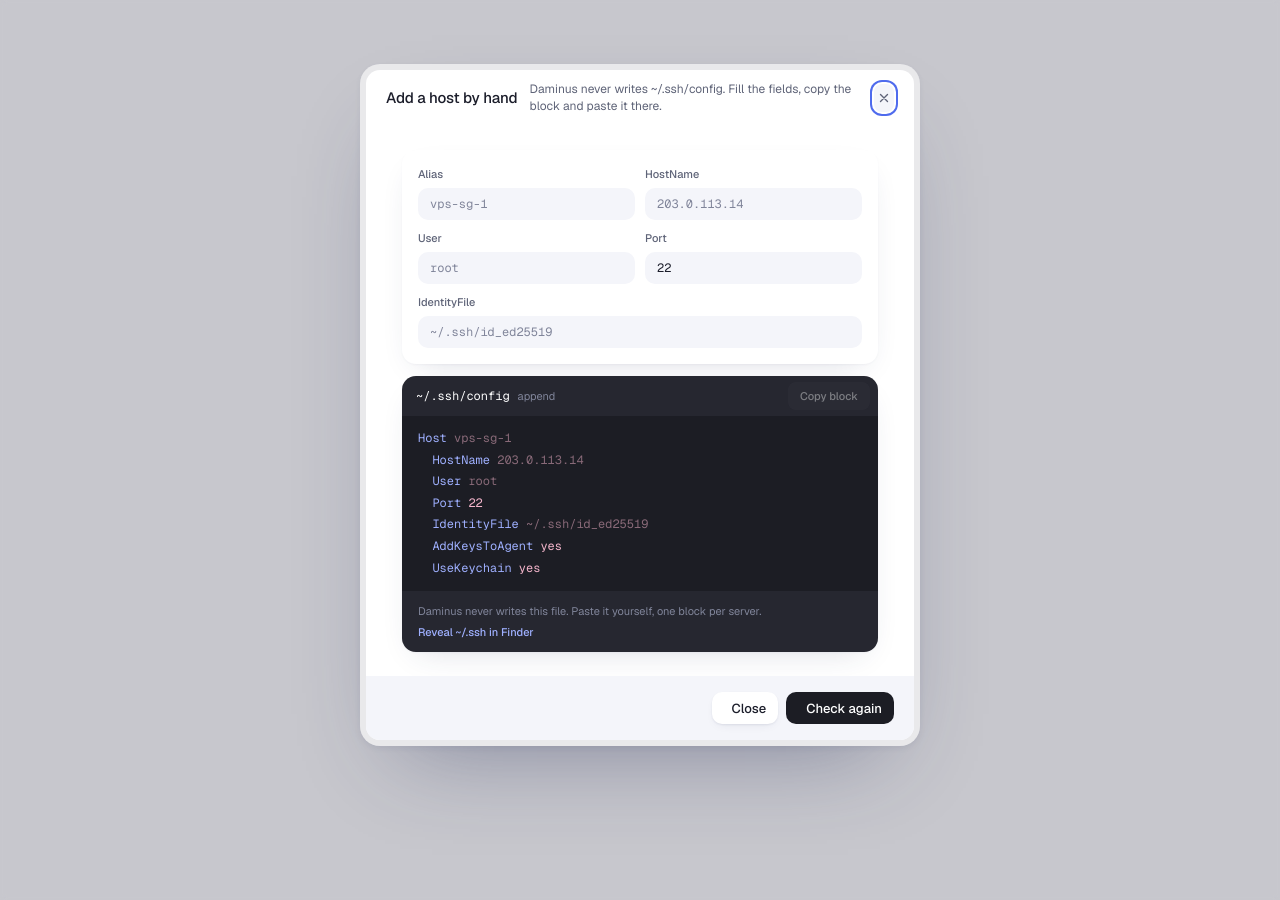
AddHostSheet › follows the config when it is read again from elsewhere, and drops a stale answer
The width and height of the screenshot is (1280, 900).
Type "apollo-2" into the field labelled "Alias" at (526, 204), box [430,188,623,220]
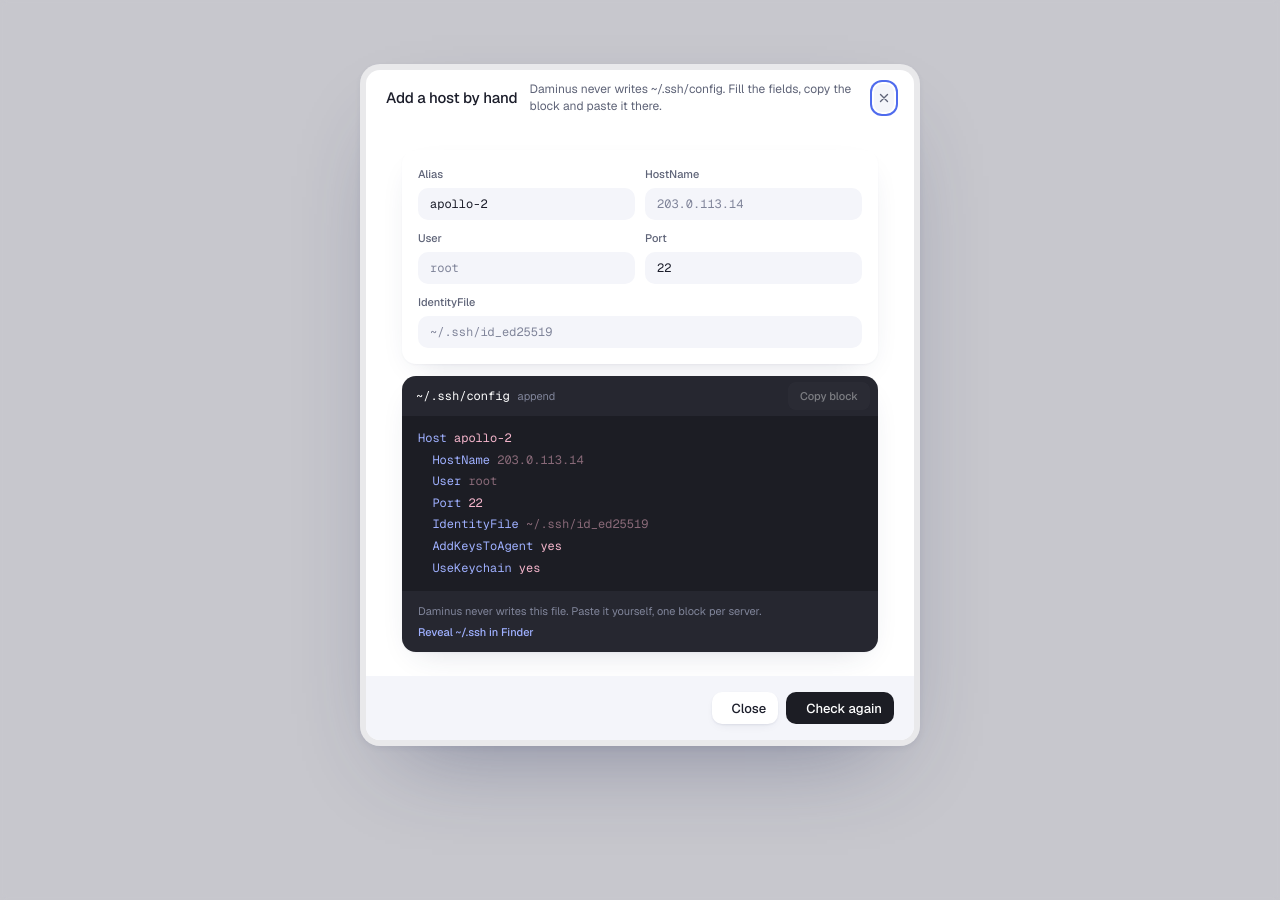
Click the button "Check again" at (840, 708), box [786,692,894,724]
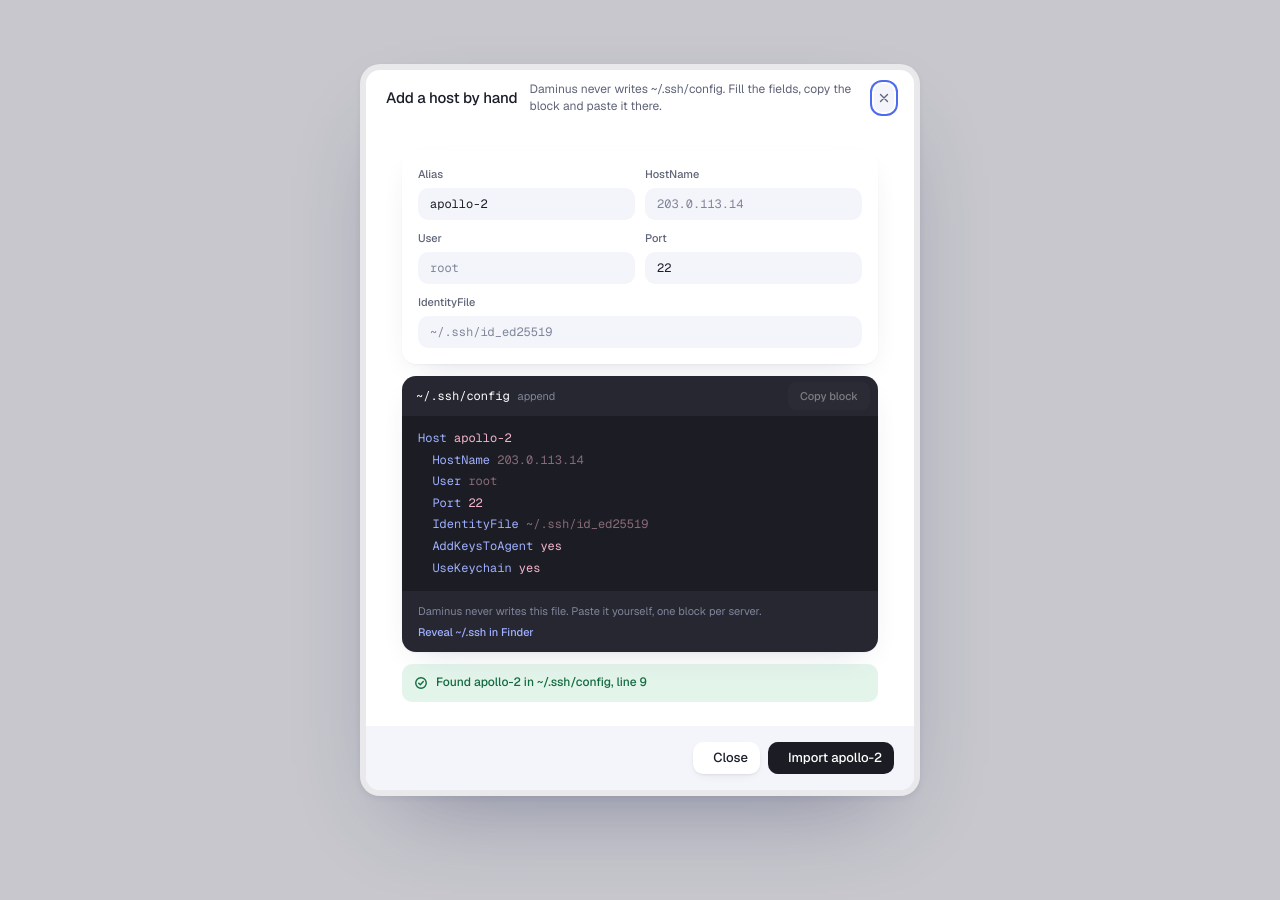
expect the message "Found apollo-2 in ~/.ssh/config, line 9" is shown: met, box [402,664,878,702]
Replace the text in the field labelled "Alias" with "apollo-3" at (526, 204), box [430,188,623,220]
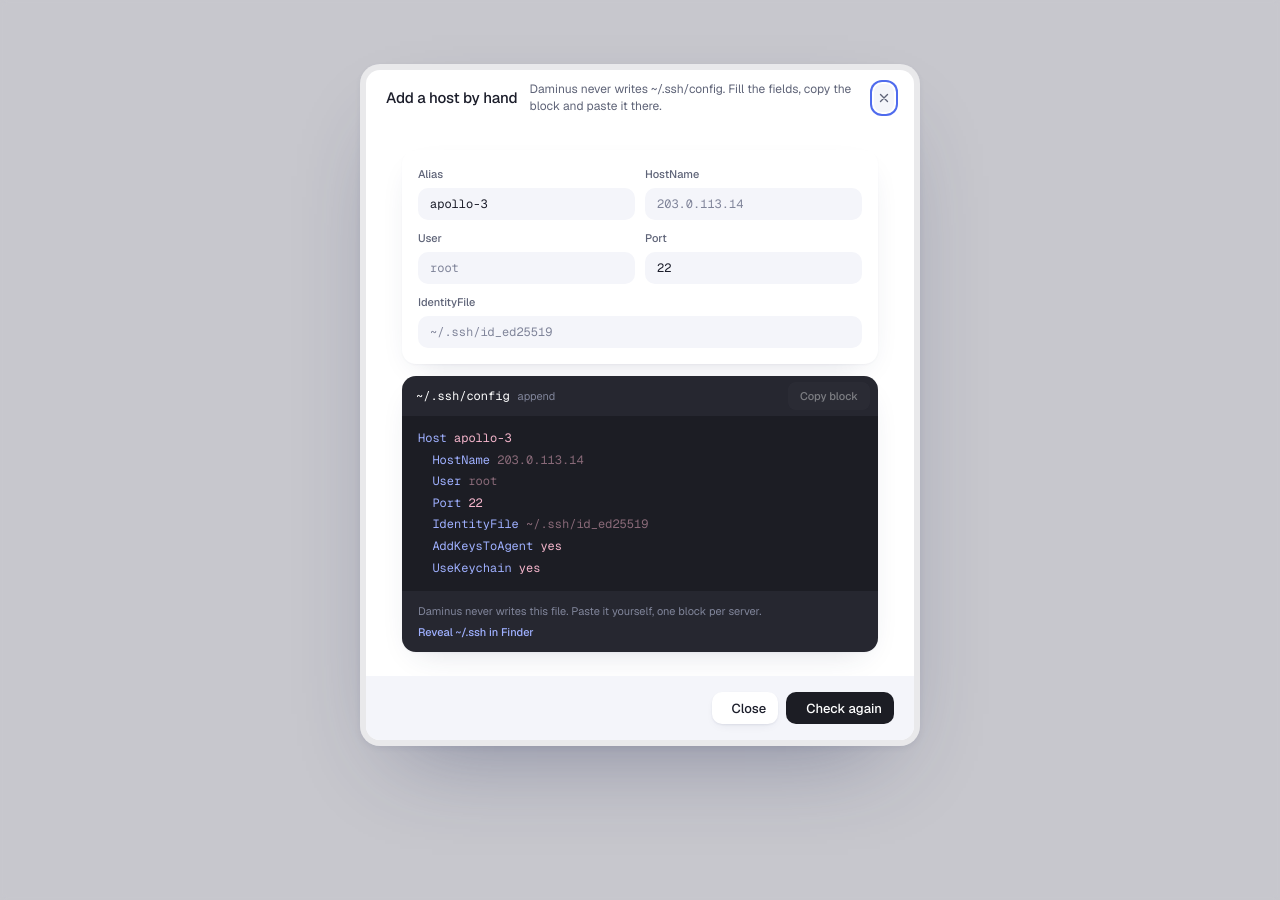
expect the message with class "result" is gone: met
